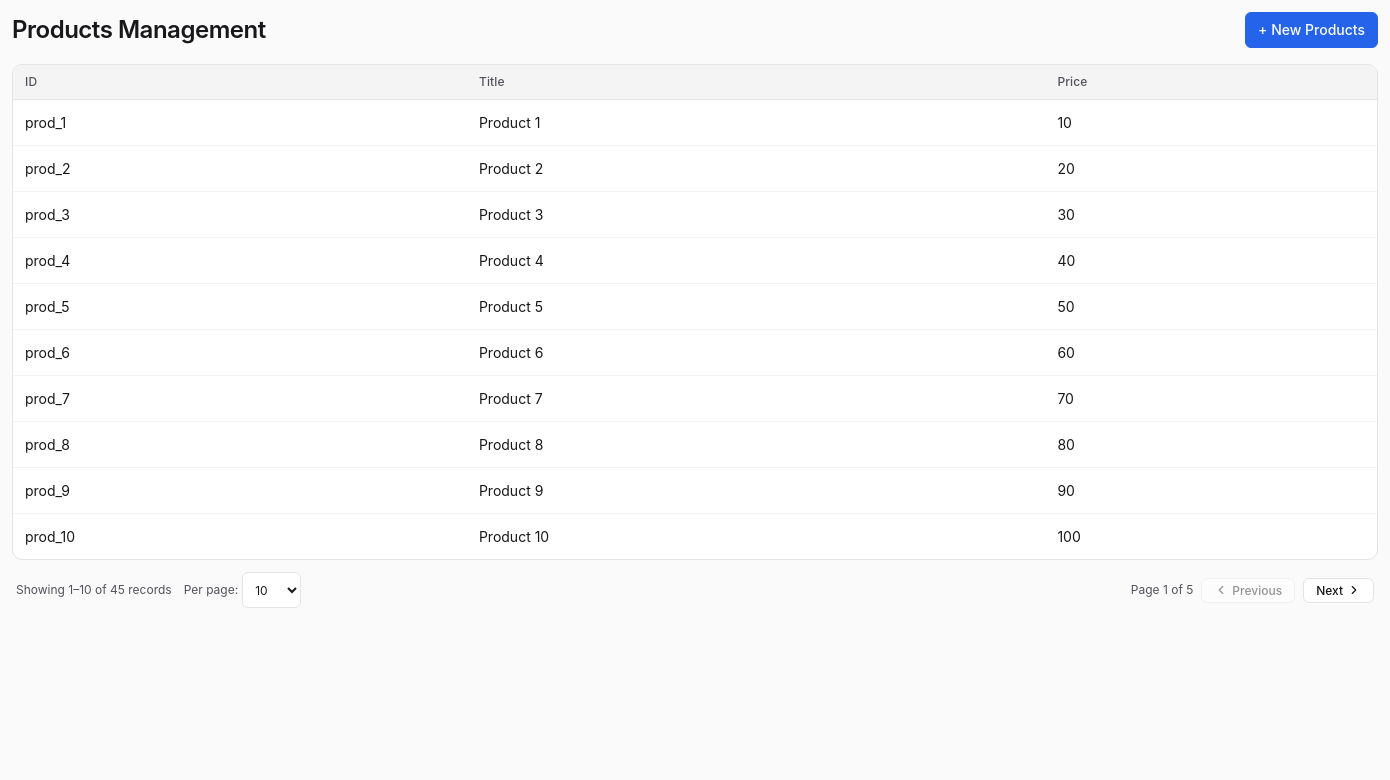
Test: Table Pagination - CRUD List & Direct Entity Mode › renders pagination controls on CRUD list template table with large dataset and navigates pages
Expected: the text "Product 1" is shown, left=467, top=100, right=1045, bottom=146
Expected: the text "Product 10" is shown, left=467, top=514, right=1045, bottom=559
# Navigate to next page
Click the button with aria-label "next page" at (1339, 590), box left=1303, top=578, right=1374, bottom=602
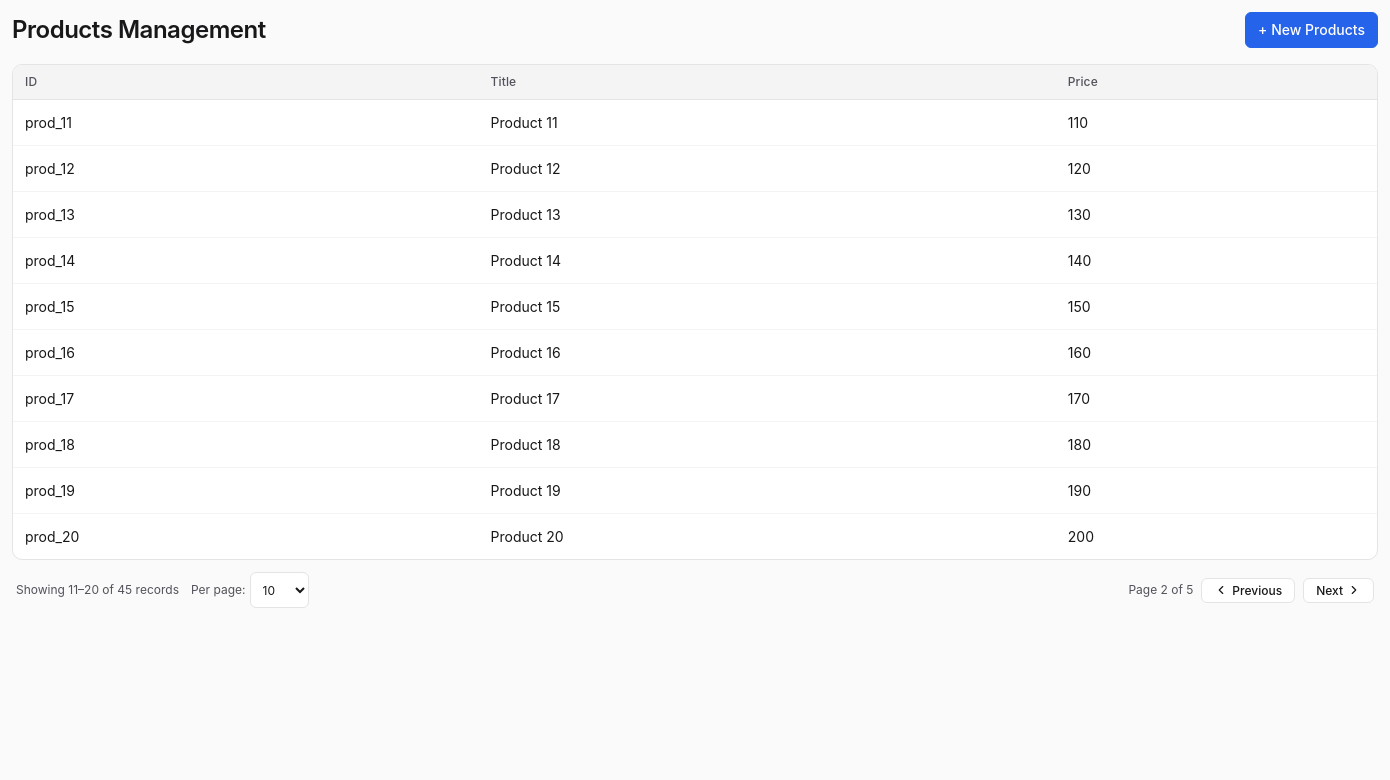
Expected: the text "Product 11" is shown, left=479, top=100, right=1056, bottom=146
Expected: the text "Product 20" is shown, left=479, top=514, right=1056, bottom=559
Expected: the text "Showing 11–20 of 45 records" is shown, left=16, top=581, right=179, bottom=599
# Navigate back to previous page
Click the button with aria-label "previous page" at (1248, 590), box left=1201, top=578, right=1295, bottom=602
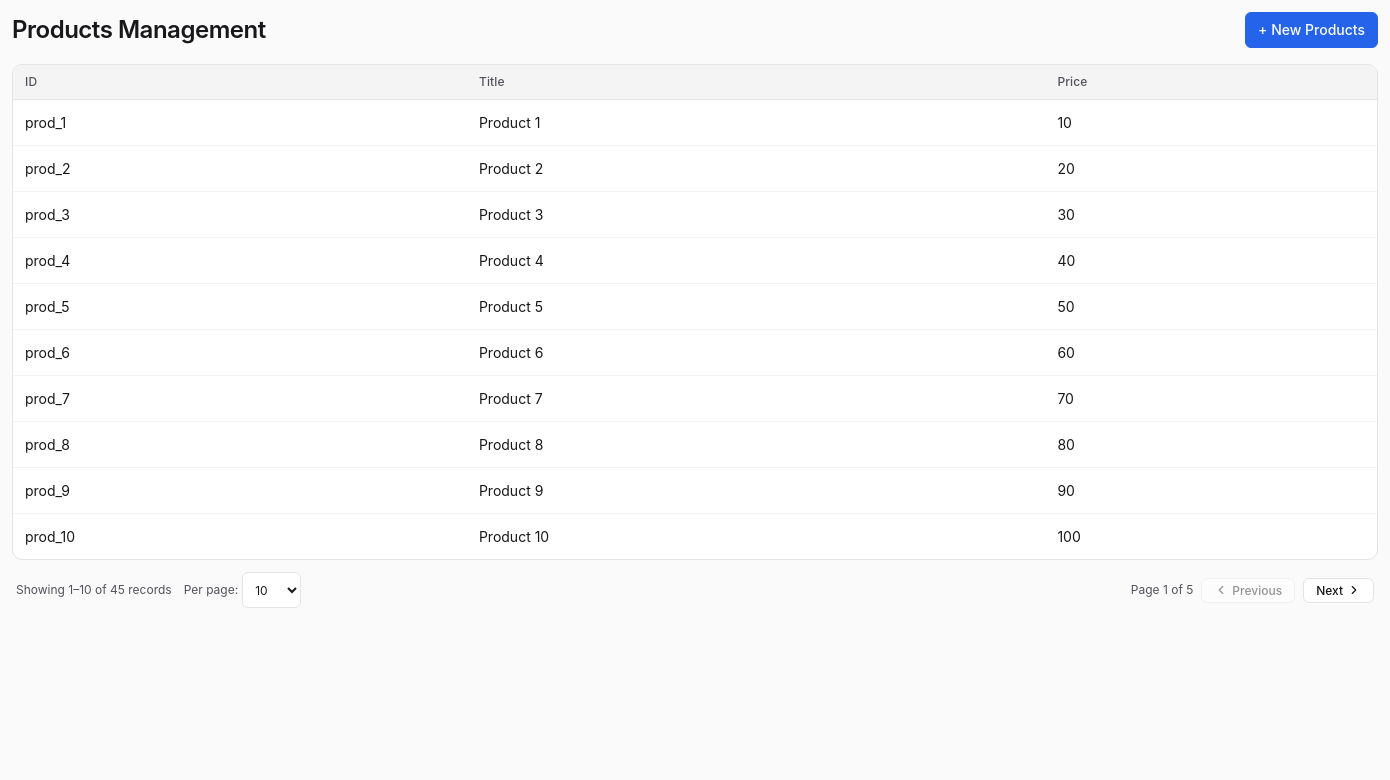
Expected: the text "Product 1" is shown, left=467, top=100, right=1045, bottom=146
Expected: the text "Showing 1–10 of 45 records" is shown, left=16, top=581, right=172, bottom=599
Expected: the text "Page 1 of 5" is shown, left=1131, top=581, right=1193, bottom=599
